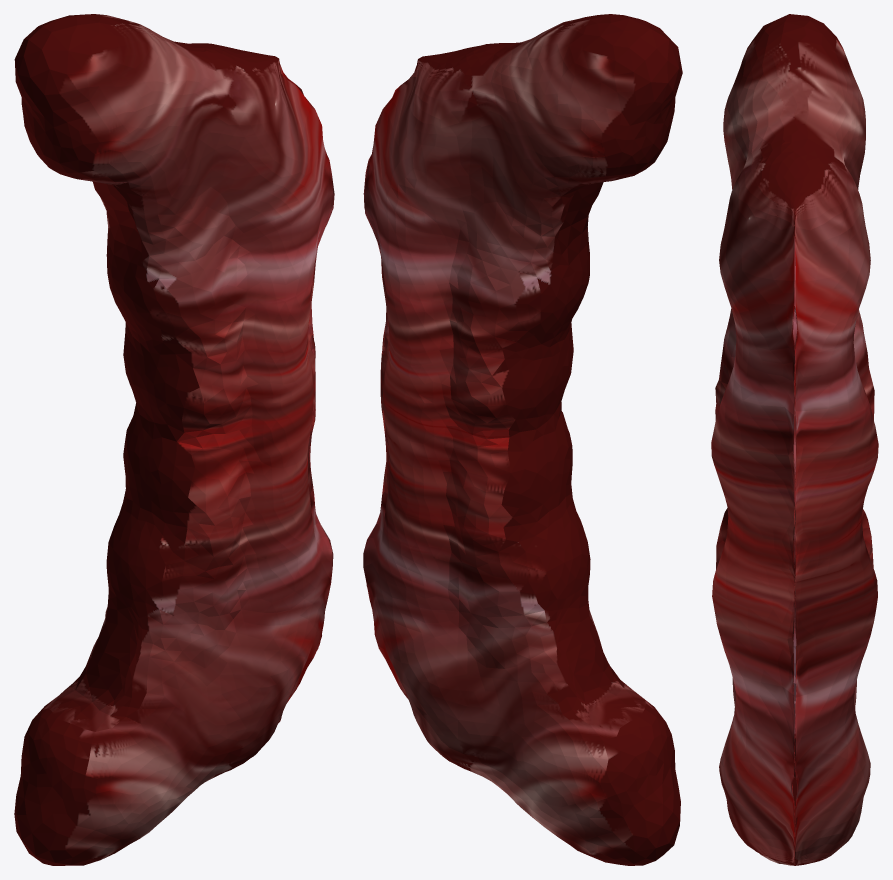
Rendered from vein.glb.
The picture shows the model from 3 angles, left to right: view 1: azimuth 30°, elevation 25°; view 2: azimuth 150°, elevation 25°; view 3: azimuth 270°, elevation 25°; orthographic projection.
Parts seen in each view (by area): view 1: Cube; view 2: Cube; view 3: Cube.
Part boxes in pixels (x1,y1,x2,y2): Cube: (14, 14, 334, 865); Cube: (363, 14, 682, 865); Cube: (711, 14, 878, 865).
Bounding box in the file's own units: 5.13 × 13.26 × 2.42.
Materials: 1 (1 with a texture image).
